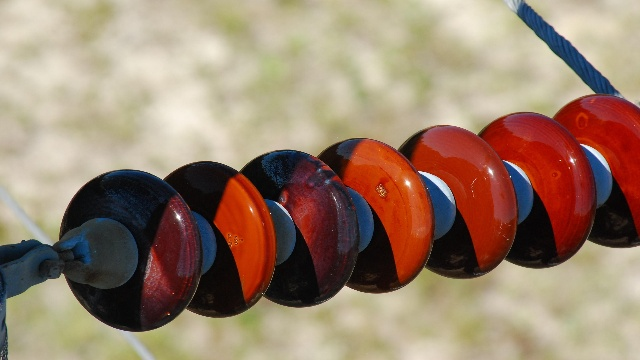insulator_unspecified: (59, 93, 639, 331)
pollution_flashover_local: (276, 188, 291, 205)
